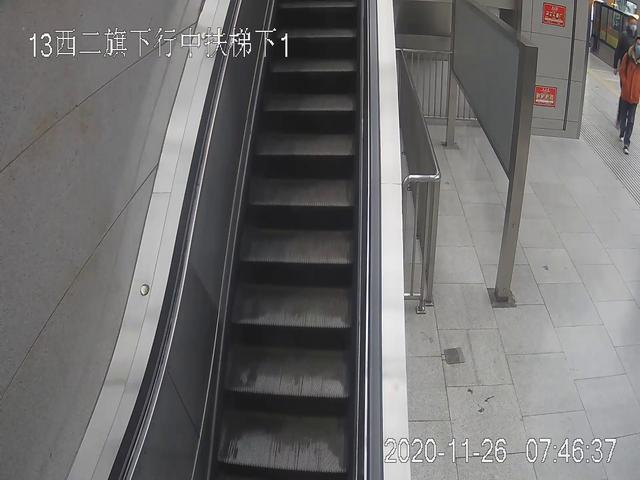person: (610, 37, 640, 154)
